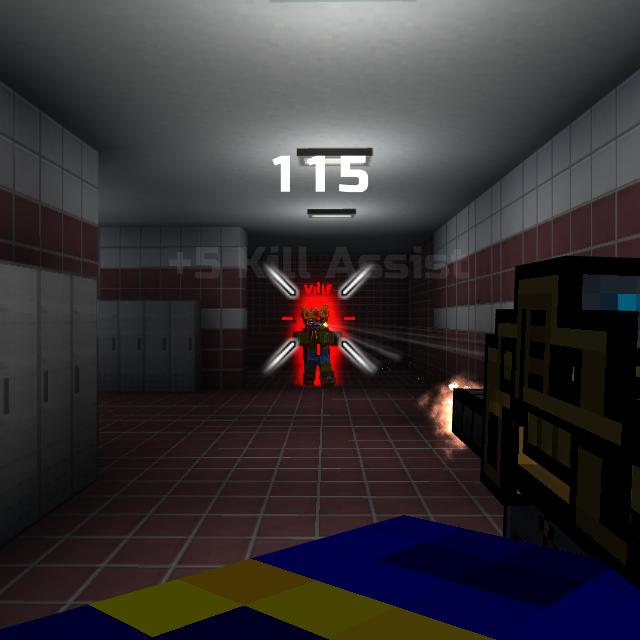Enemy: (291, 311, 340, 391)
